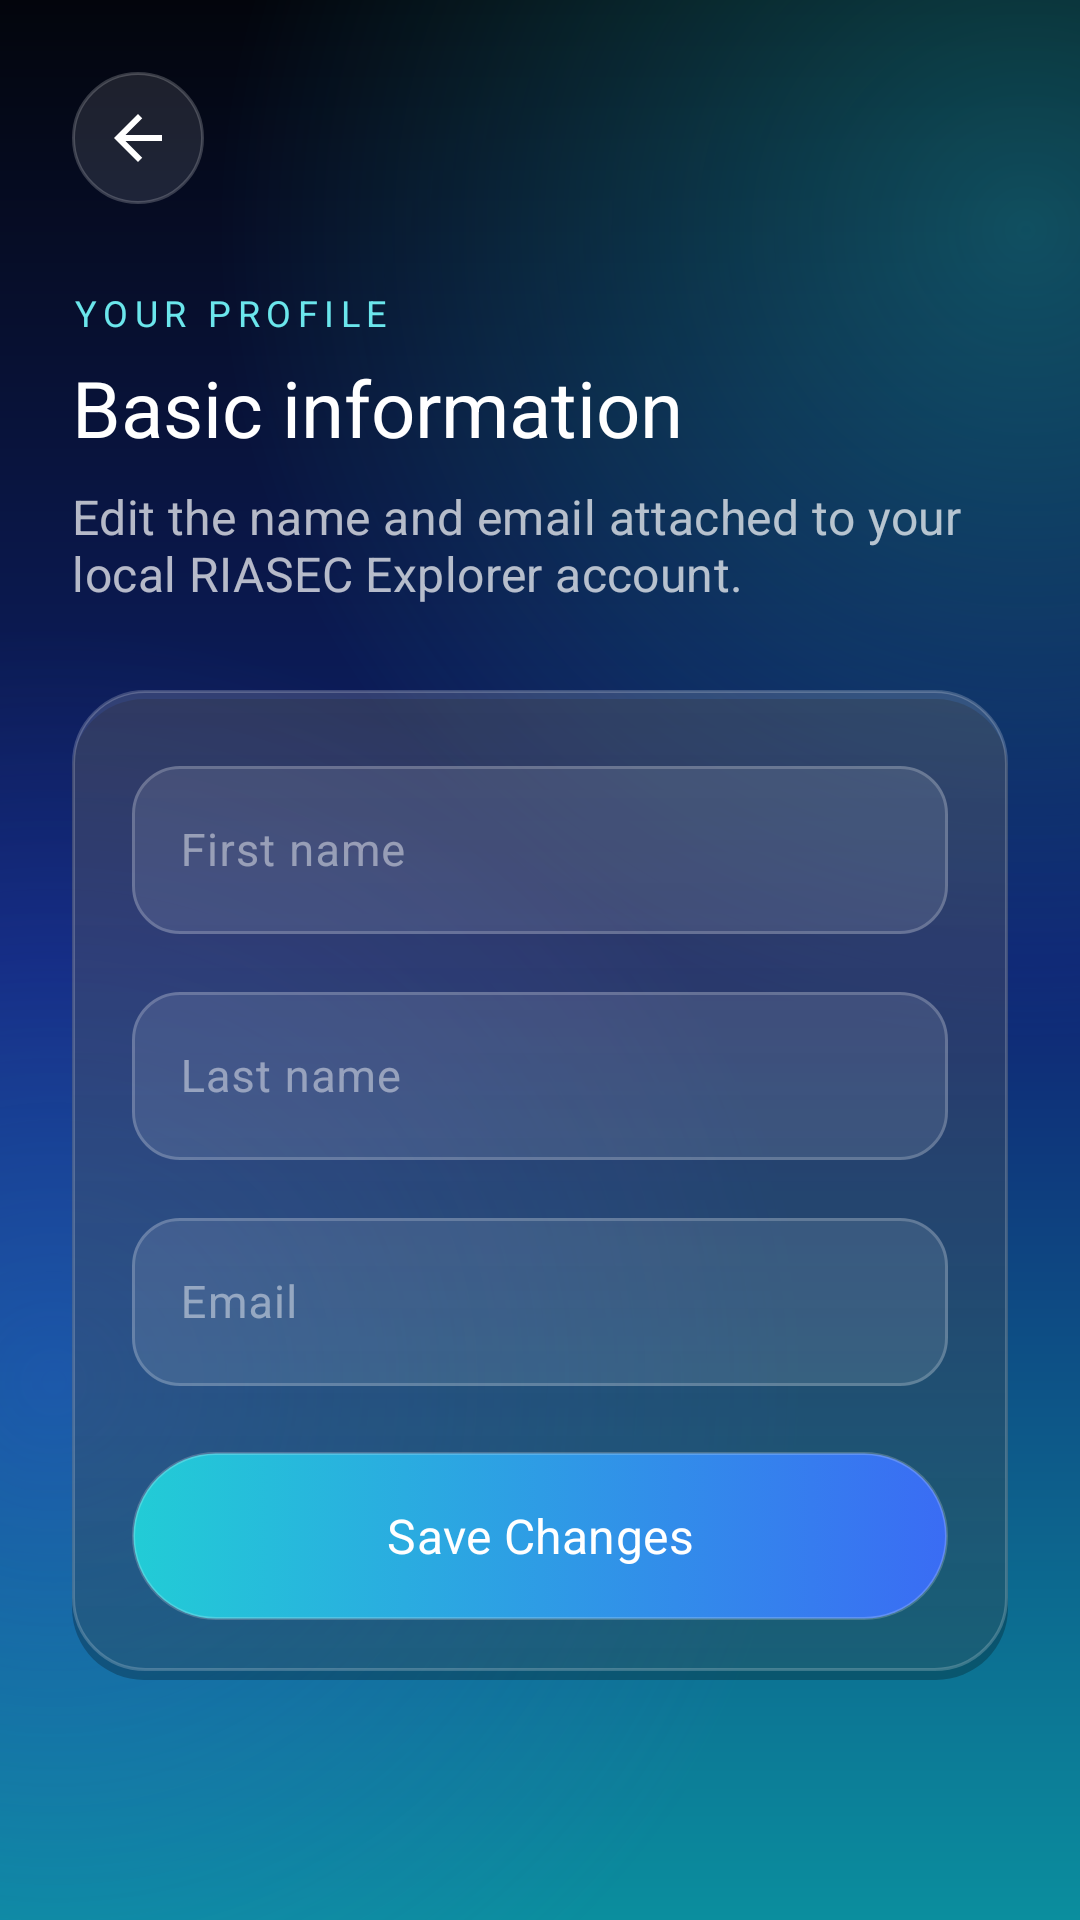

Icons on this 1080px x 1920px Android screen, each with its box as (x1, y1, x2, y2):
Back: (72, 72, 204, 204)
